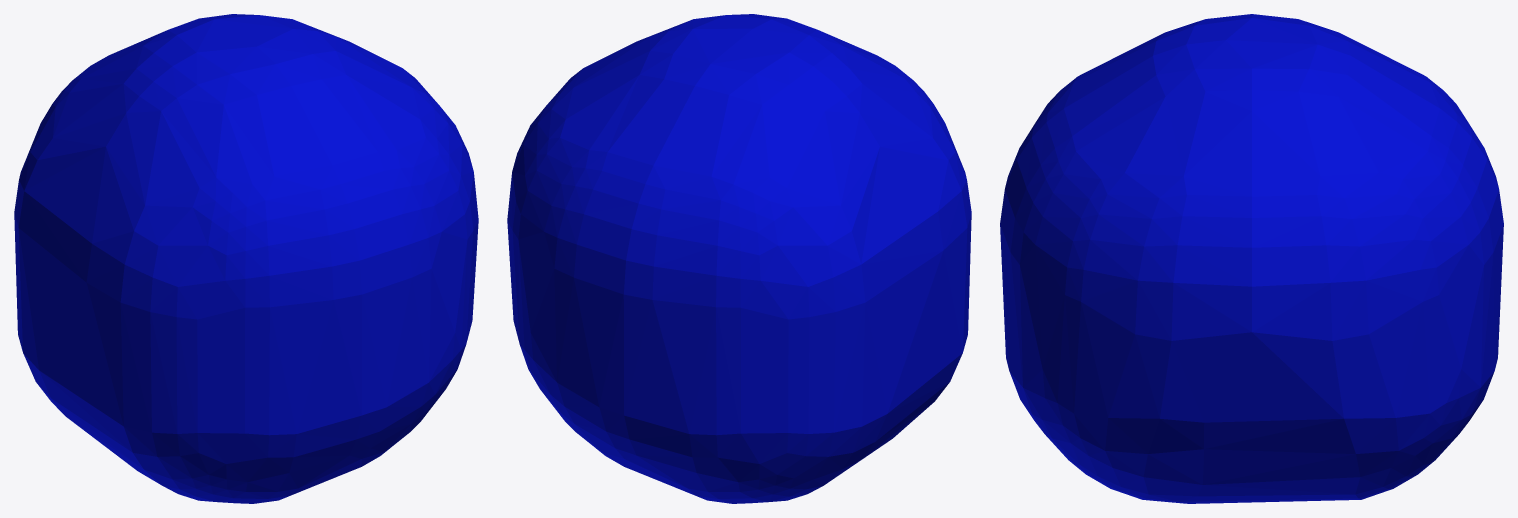
File: COL_hollie_real.016.dae
3 renders of one model, left to right at view 1: azimuth 30°, elevation 25°; view 2: azimuth 150°, elevation 25°; view 3: azimuth 270°, elevation 25°, orthographic. The views are drawn at different scales.
Visible parts, largest first — view 1: COL_COL_COL_VIS_VIS_VIS_VIS_VIS_VIS_VIS_VIS_VIS_hollie_real_; view 2: COL_COL_COL_VIS_VIS_VIS_VIS_VIS_VIS_VIS_VIS_VIS_hollie_real_; view 3: COL_COL_COL_VIS_VIS_VIS_VIS_VIS_VIS_VIS_VIS_VIS_hollie_real_.
Part boxes in pixels (x1,y1,x2,y2): COL_COL_COL_VIS_VIS_VIS_VIS_VIS_VIS_VIS_VIS_VIS_hollie_real_: (14, 14, 478, 503); COL_COL_COL_VIS_VIS_VIS_VIS_VIS_VIS_VIS_VIS_VIS_hollie_real_: (507, 14, 971, 503); COL_COL_COL_VIS_VIS_VIS_VIS_VIS_VIS_VIS_VIS_VIS_hollie_real_: (1000, 14, 1503, 503).
Bounding box in the file's own units: 0.0595 × 0.063 × 0.0625.
